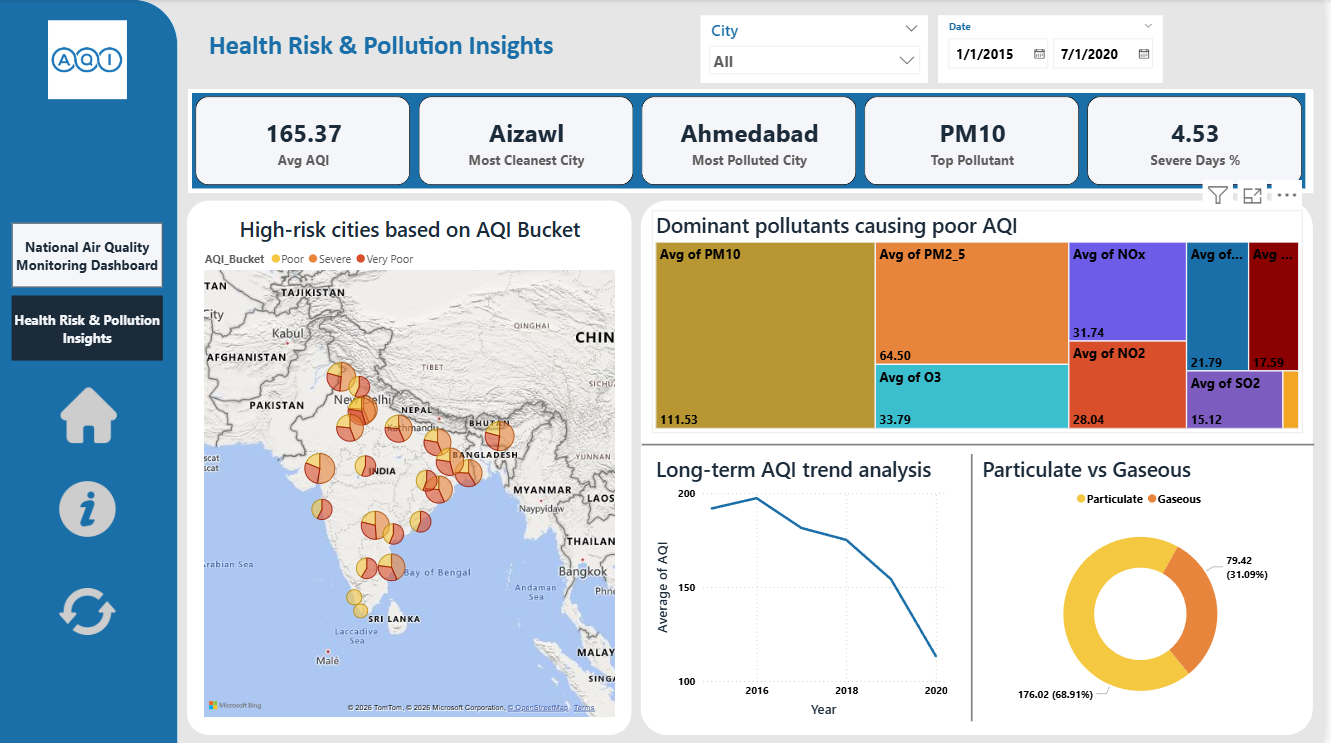

What the dashboard file says about the page in this screenshot:
{"tool":"powerbi","page":{"name":"Health Risk & Pollution Insights","canvas":[1600,900],"ordinal":1},"visuals":[{"type":"shape","box":[227.7,242.8,536.9,645.4],"z":0},{"type":"shape","box":[0,0,217.2,900.3],"z":1000},{"type":"textbox","box":[77,32,770.4,68.3],"z":2000},{"type":"cardVisual","fields":{"Data":["Measures Table.Avg AQI","Measures Table.Most Cleanest City","Measures Table.Most Polluted City","Measures Table.Top Pollutant","Measures Table.Severe Days %"]},"box":[229.6,108.6,1357.7,125.7],"z":3000},{"type":"shape","box":[775.1,242.8,811.3,645.4],"z":4000},{"type":"slicer","fields":{"Values":["Data.City"]},"box":[847.5,19.6,274.5,81.4],"z":5000},{"type":"slicer","fields":{"Values":["Calender.Date"]},"box":[1134.1,19.6,271.4,81.4],"z":6000},{"type":"map","title":"High-risk cities based on AQI Bucket","fields":{"Category":["Data.City"],"Size":["Avg(Data.AQI)"],"Series":["Data.AQI_Bucket"]},"box":[244.3,259.4,505.2,612.3],"z":7000},{"type":"treemap","title":"Dominant pollutants causing poor AQI","fields":{"Values":["Avg(Data.PM10)","Avg(Data.PM2_5)","Avg(Data.NO2)","Avg(Data.NO)","Avg(Data.NH3)","Avg(Data.NOx)","Avg(Data.O3)","Avg(Data.SO2)","Avg(Data.CO)"]},"box":[788.7,254.9,785.7,268.4],"z":8000},{"type":"shape","box":[1120.5,548.9,108.6,322.7],"z":9000},{"type":"lineChart","title":"Long-term AQI trend analysis","fields":{"Category":["Calender.Date.Variation.Date Hierarchy.Year","Calender.Date.Variation.Date Hierarchy.Quarter","Calender.Date.Variation.Date Hierarchy.Month","Calender.Date.Variation.Date Hierarchy.Day"],"Y":["Avg(Data.AQI)"]},"box":[788.7,548.9,361.9,322.7],"z":10000},{"type":"shape","box":[776.6,488.6,811.3,98],"z":11000},{"type":"donutChart","title":"Particulate vs Gaseous","fields":{"Y":["Measures Table.Particulate","Measures Table.Gaseous"]},"box":[1182.3,548.9,392.1,322.7],"z":12000},{"type":"pageNavigator","box":[16.6,269.9,182.5,167.4],"z":13000},{"type":"image","box":[7.5,25.6,200.6,95],"z":14000},{"type":"image","box":[73.9,699.7,67.9,78.4],"z":15000},{"type":"image","box":[75.4,463,67.9,78.4],"z":16000},{"type":"image","box":[73.9,576.1,67.9,78.4],"z":17000}]}

Visuals, with their boxes on the page's 1600x900 design canvas (x1, y1, x2, y2). These are canvas units, not pixel positions in the 1331x743 screenshot, which may show the page scaled, cropped or inside an application window:
shape: [228,243,765,888]
shape: [0,0,217,900]
textbox: [77,32,847,100]
cardVisual - Measures Table.Avg AQI x Measures Table.Most Cleanest City: [230,109,1587,234]
shape: [775,243,1586,888]
slicer - Data.City: [848,20,1122,101]
slicer - Calender.Date: [1134,20,1406,101]
"High-risk cities based on AQI Bucket" map: [244,259,750,872]
"Dominant pollutants causing poor AQI" treemap: [789,255,1574,523]
shape: [1120,549,1229,872]
"Long-term AQI trend analysis" lineChart: [789,549,1151,872]
shape: [777,489,1588,587]
"Particulate vs Gaseous" donutChart: [1182,549,1574,872]
pageNavigator: [17,270,199,437]
image: [8,26,208,121]
image: [74,700,142,778]
image: [75,463,143,541]
image: [74,576,142,654]
